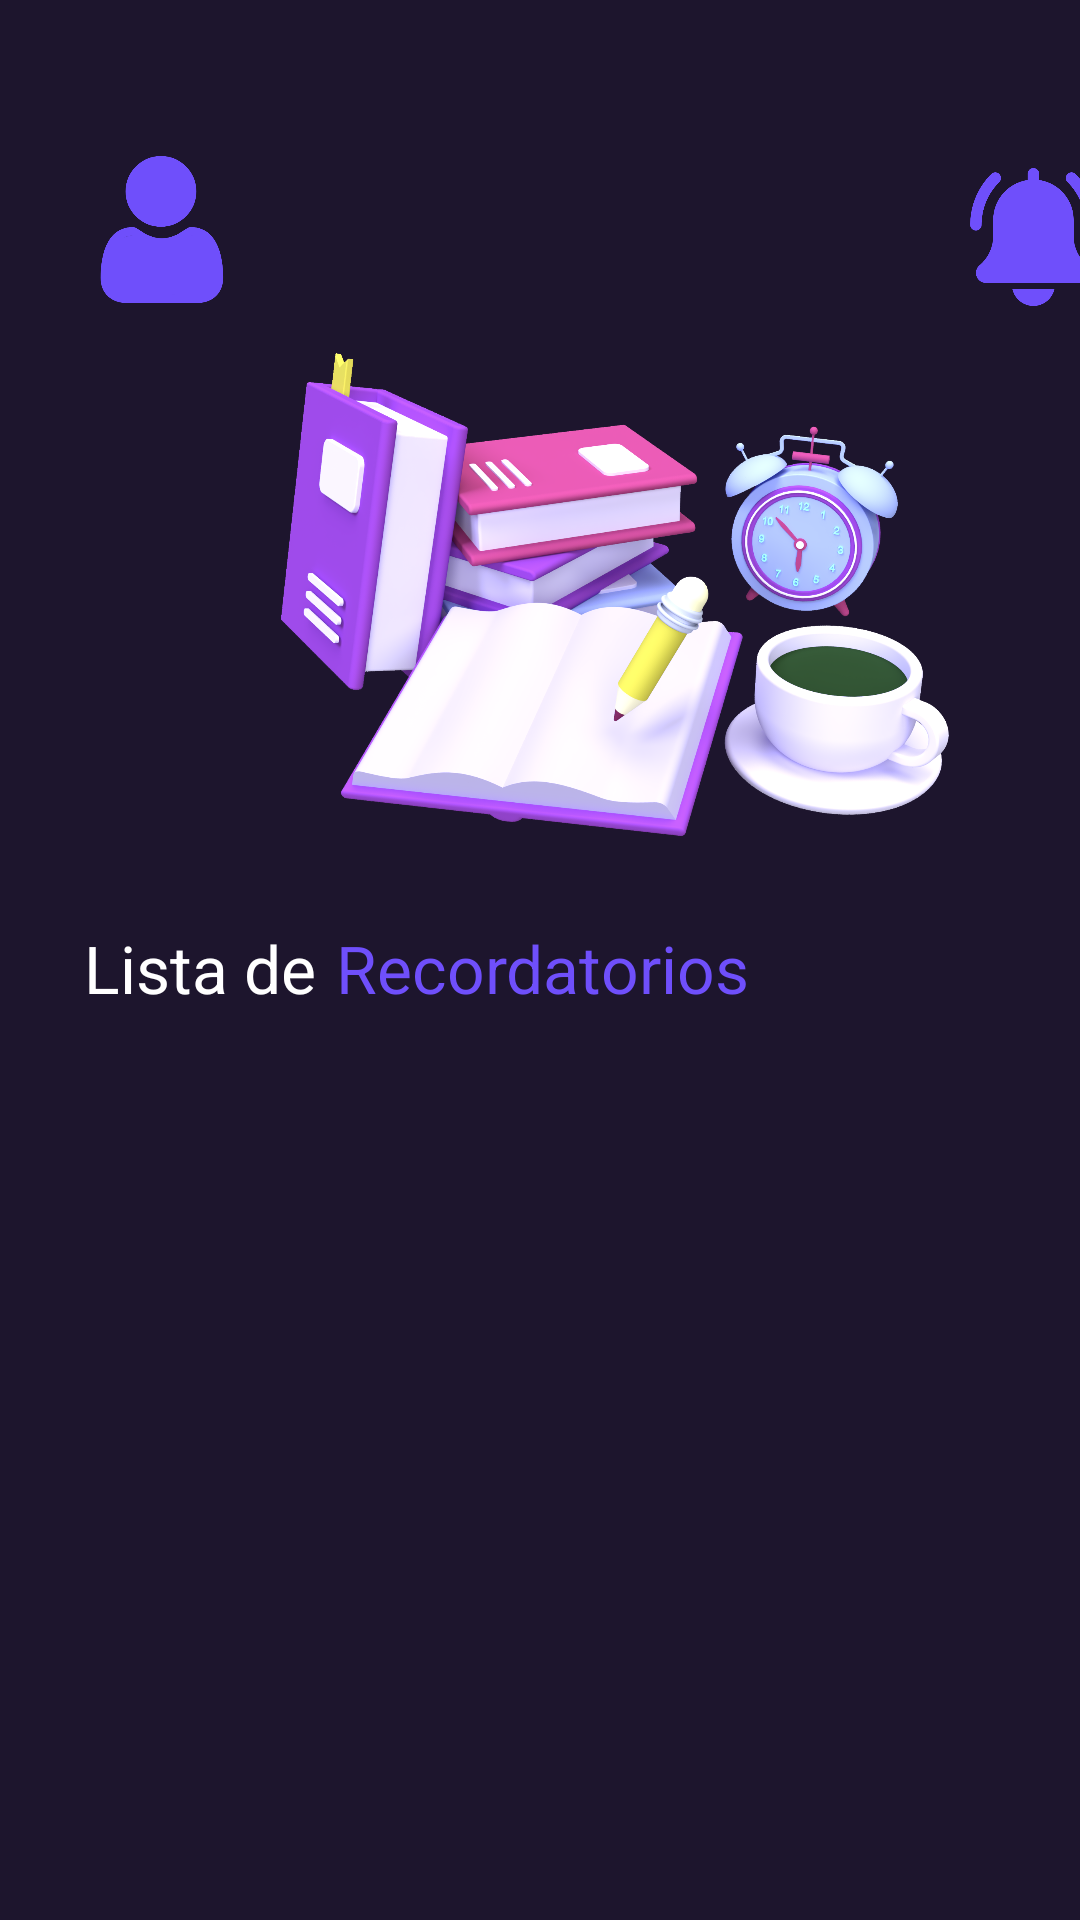

Icon bounding boxes for this 1080px×1920px phone screenshot, format (x1, y1, x2, y2):
user: (100, 156, 223, 303)
